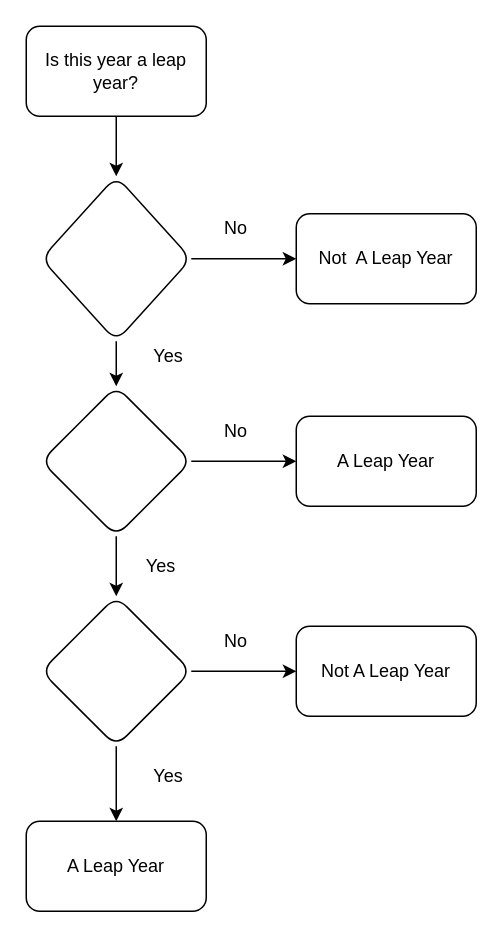
The diagram is 503 pixels wide and 938 high, and some of its shapes have lost their labels. The box of each missing label's shape, as (x1, y1, x2, y2) in pixels:
Divisible by 100?: (40, 385, 191, 536)
Divisible by 400?: (40, 595, 191, 746)
Divisible by 4?: (40, 175, 191, 341)
